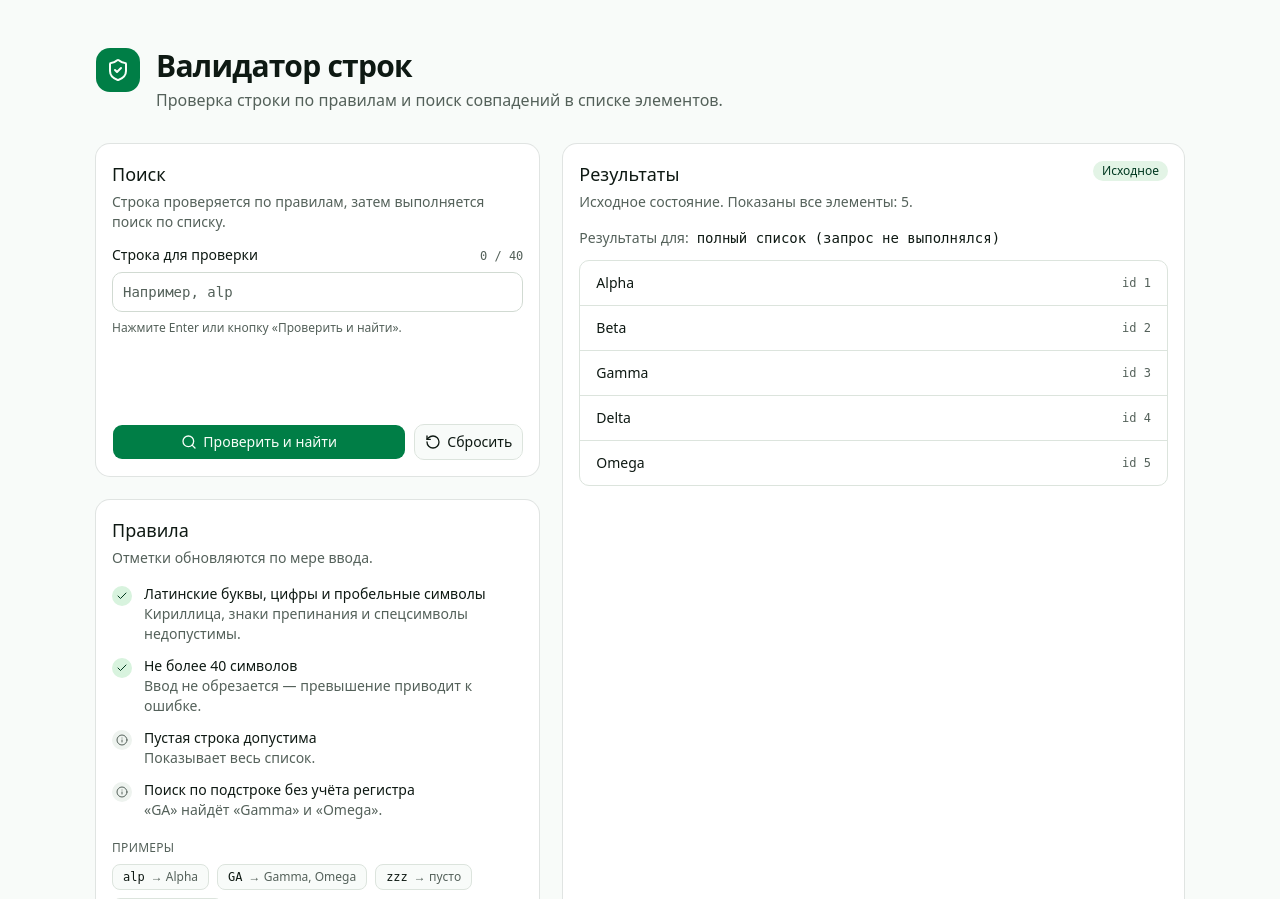
Подменённые ответы сервера и состояния › shows an empty state for an empty HTTP 200 response
Type "zzz" into the field labelled "Строка для проверки".
click(318, 292); type("zzz")  # box [112,272,523,312]
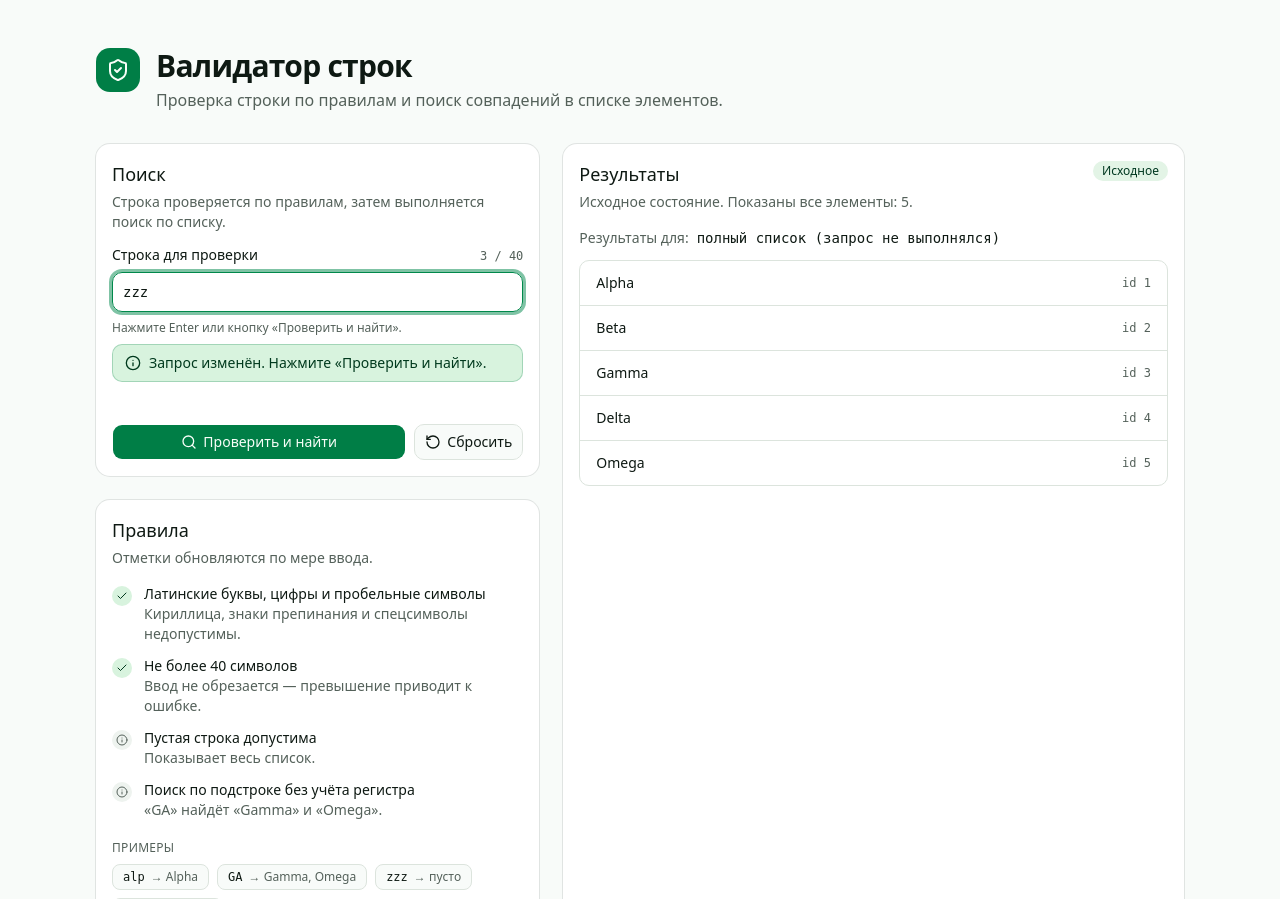
Click the button "Проверить и найти".
click(259, 442)  # box [112,424,406,460]
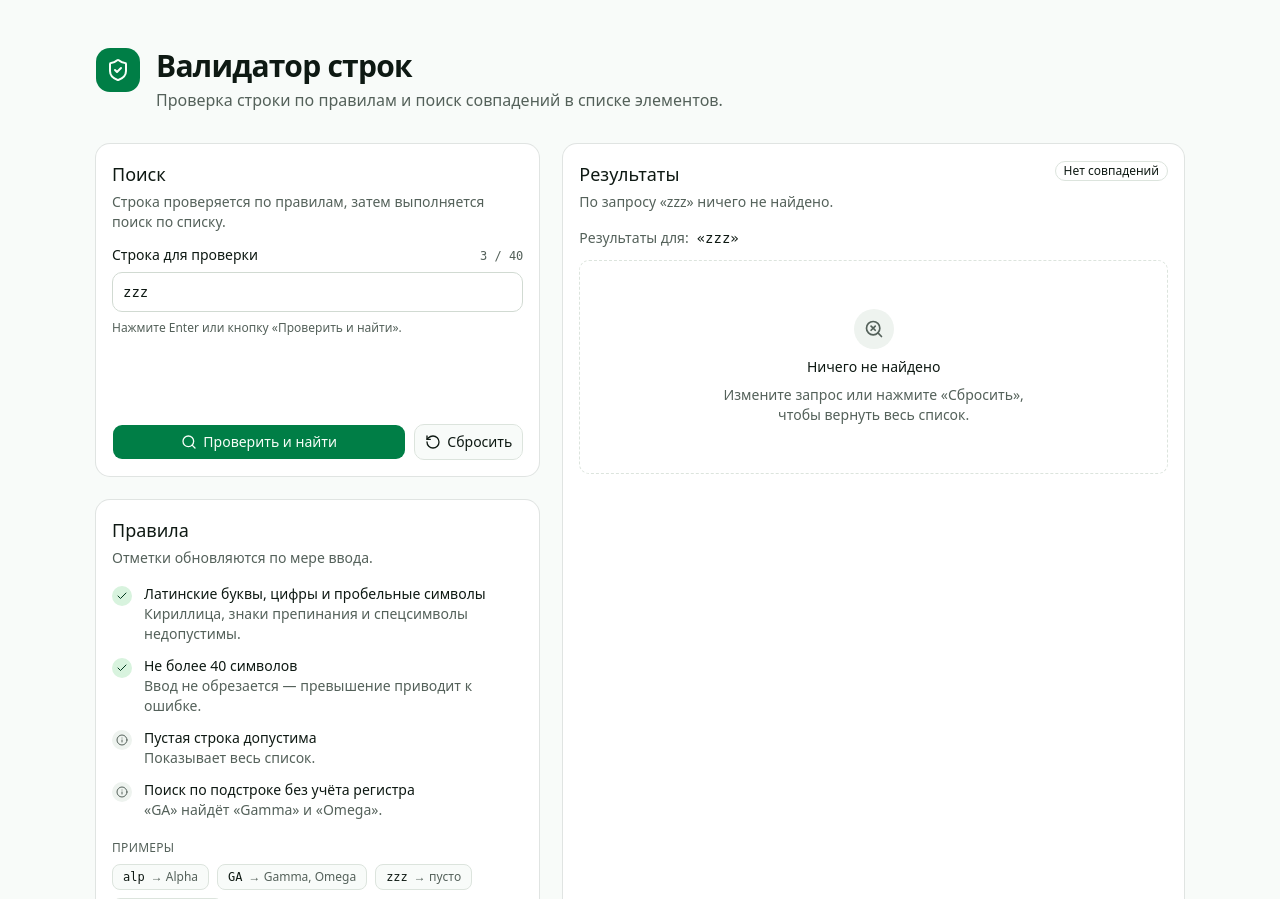
Now the text "По запросу «zzz» ничего не найдено." is shown, box [579,192,833,211]
Now no the list item "Alpha id 1" are shown
